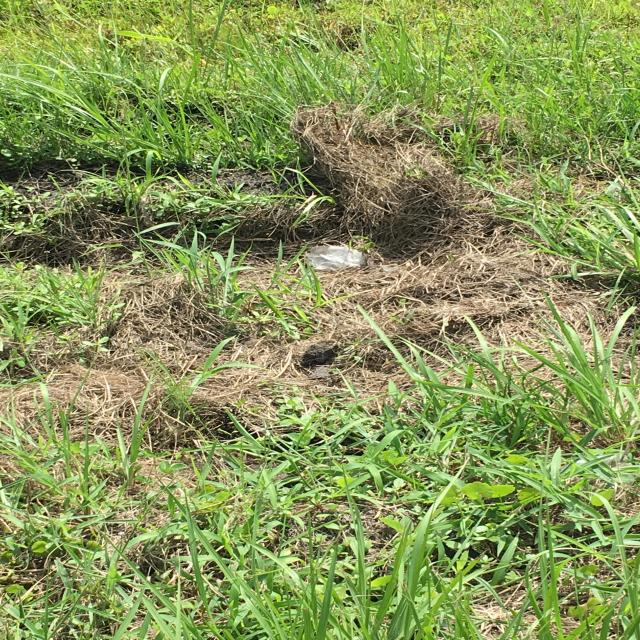litter: (304, 244, 364, 271)
